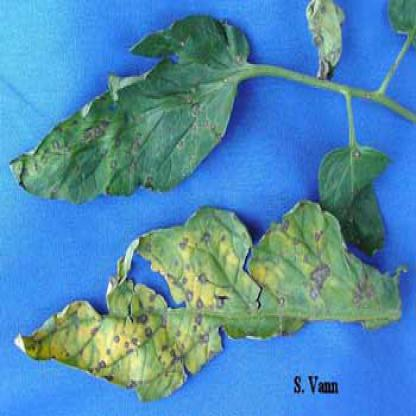Tomato leaf bacterial spot: (12, 197, 405, 408), (13, 10, 258, 219)
